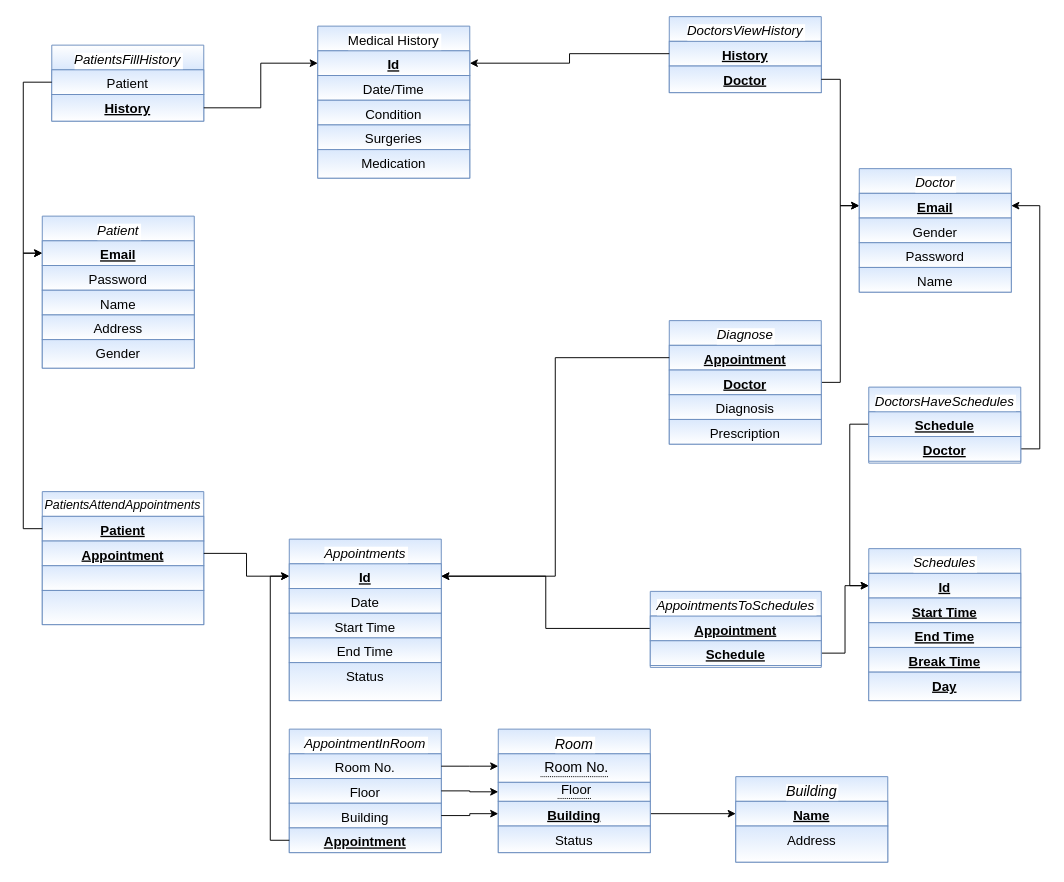
Some shapes in this 1064 by 882 pixel diagram are drawn without their labels. The centre of each missing label's shape, as x and y in pixels:
Concerns: (122,577)
Symptoms: (122,607)
